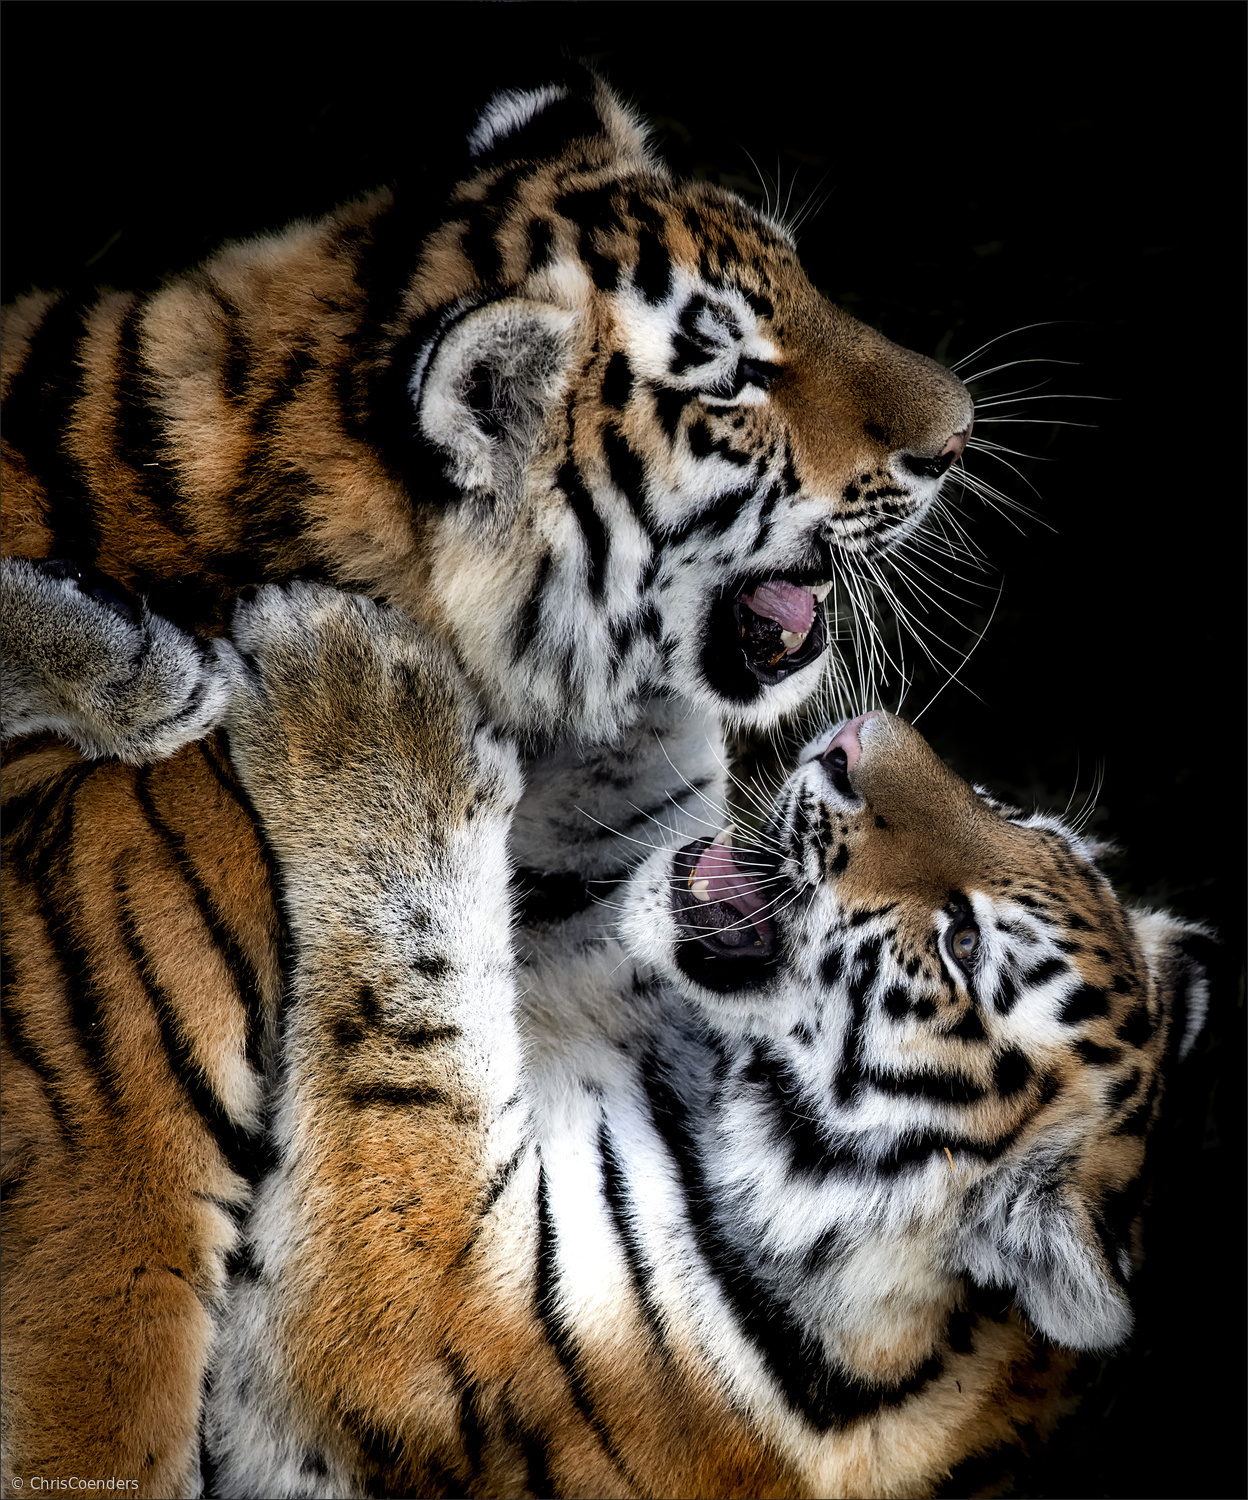tiger: (141, 665, 1226, 1500), (60, 123, 1070, 780)
